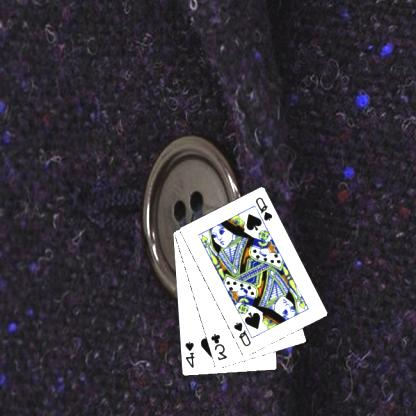3C: (210, 331, 230, 362)
4S: (184, 339, 198, 369)
QS: (232, 320, 254, 349), (254, 195, 276, 223)
